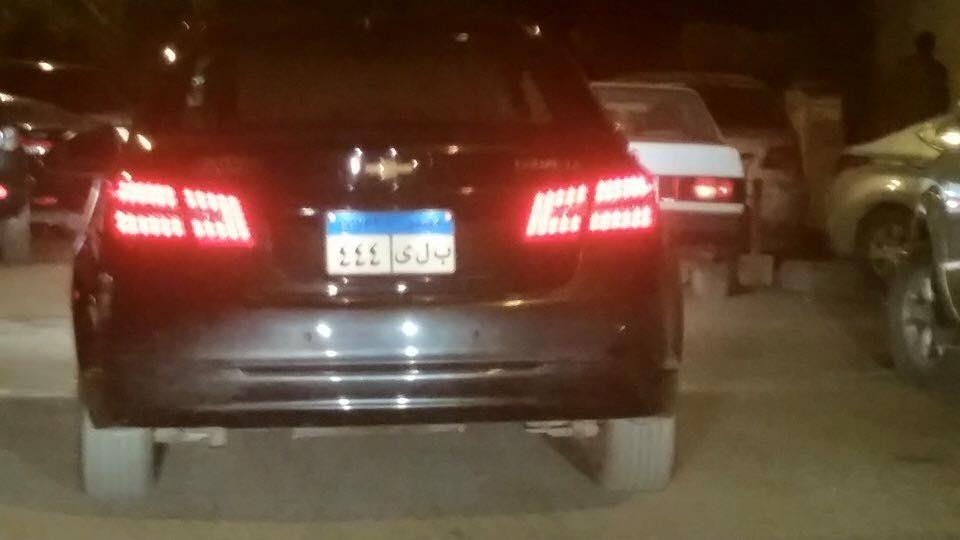4: (367, 240, 385, 269), (338, 241, 353, 268), (352, 240, 365, 269)
Laam: (415, 240, 432, 268)
License Plate: (321, 207, 459, 279)
Yeeh: (394, 241, 413, 268)
baa: (432, 244, 453, 266)
car: (66, 19, 687, 491), (594, 65, 745, 298), (705, 69, 808, 266), (829, 104, 960, 253), (0, 83, 104, 264), (888, 175, 960, 384)
